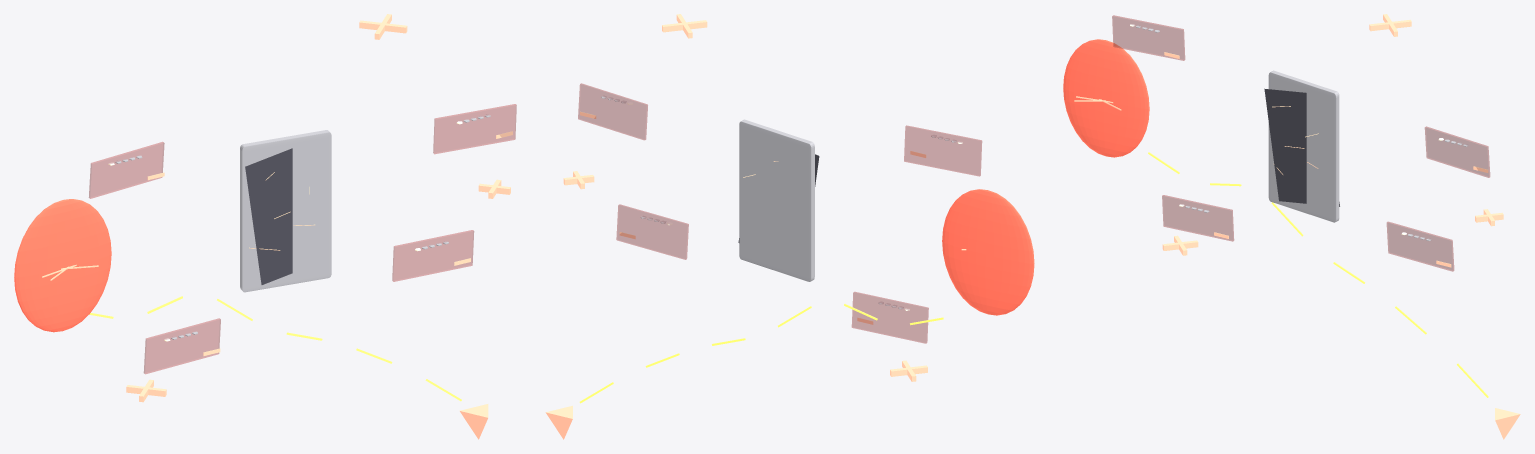
Rendered from pain-point.glb.
The picture shows the model from 3 angles, left to right: view 1: azimuth 30°, elevation 25°; view 2: azimuth 150°, elevation 25°; view 3: azimuth 330°, elevation 25°; orthographic projection. The views are drawn at different scales.
Parts seen in each view (by area): view 1: BrokenShield, BrokenPhone, PhoneScreen, BadReview_1, BadReview_3, BadReview_2, BadReview_0, DownArrow; view 2: BrokenPhone, BrokenShield, BadReview_0, BadReview_2, BadReview_3, BadReview_1, DownArrow; view 3: BrokenShield, BrokenPhone, PhoneScreen, BadReview_0, BadReview_2, BadReview_3, BadReview_1, DownArrow.
Part boxes in pixels (x1=…): BrokenShield: x1=14, y1=199, x2=111, y2=332; BrokenPhone: x1=240, y1=130, x2=331, y2=292; PhoneScreen: x1=245, y1=148, x2=292, y2=284; BadReview_1: x1=433, y1=104, x2=516, y2=153; BadReview_3: x1=392, y1=230, x2=473, y2=281; BadReview_2: x1=144, y1=318, x2=220, y2=373; BadReview_0: x1=89, y1=142, x2=164, y2=198; DownArrow: x1=459, y1=404, x2=488, y2=439; BrokenPhone: x1=739, y1=119, x2=814, y2=281; BrokenShield: x1=942, y1=189, x2=1034, y2=315; BadReview_0: x1=904, y1=125, x2=981, y2=176; BadReview_2: x1=852, y1=292, x2=928, y2=343; BadReview_3: x1=616, y1=204, x2=688, y2=259; BadReview_1: x1=578, y1=83, x2=647, y2=139; DownArrow: x1=545, y1=405, x2=572, y2=439; BrokenShield: x1=1063, y1=39, x2=1149, y2=157; BrokenPhone: x1=1268, y1=70, x2=1339, y2=222; PhoneScreen: x1=1264, y1=88, x2=1339, y2=206; BadReview_0: x1=1112, y1=15, x2=1184, y2=60; BadReview_2: x1=1162, y1=195, x2=1233, y2=241; BadReview_3: x1=1387, y1=222, x2=1453, y2=271; BadReview_1: x1=1425, y1=126, x2=1489, y2=177; DownArrow: x1=1495, y1=408, x2=1520, y2=439.
Size of the model in its own units: 3.55 by 3.12 by 0.4122.
